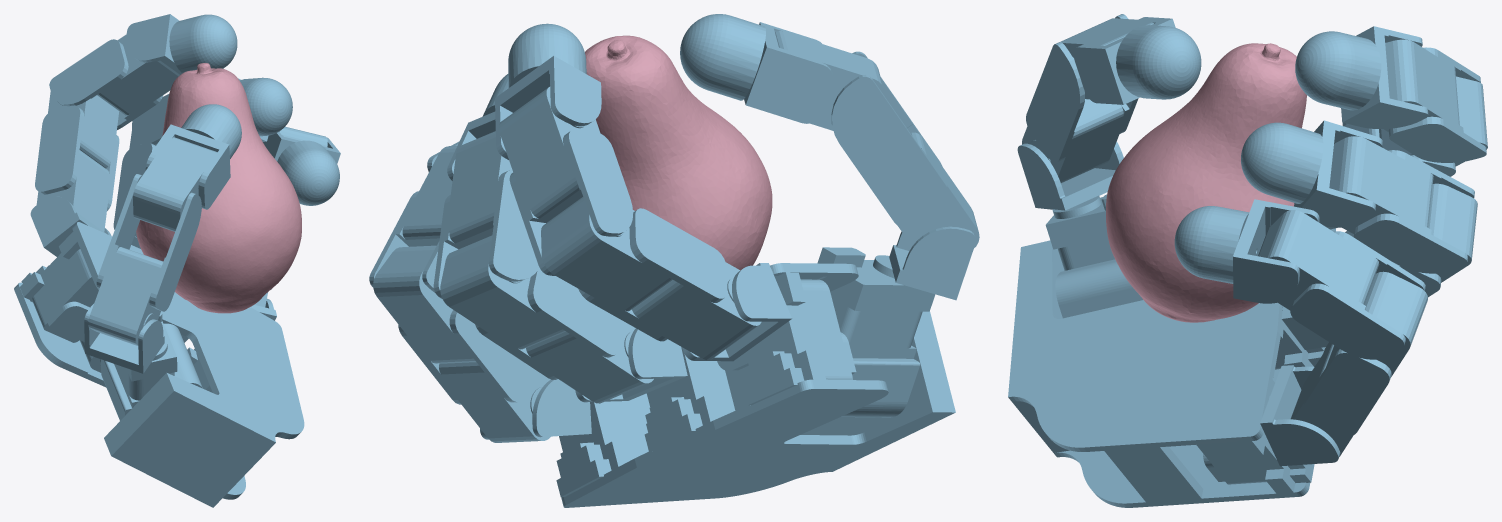
3 views of the same model, side by side, from view 1: azimuth 30°, elevation 25°; view 2: azimuth 150°, elevation 25°; view 3: azimuth 270°, elevation 25° (orthographic). The views are drawn at different scales.
Visible parts, largest first — view 1: world; view 2: world; view 3: world.
Boxes of the visible parts, x1,y1,x2,y2 form: world: (14, 14, 340, 507); world: (369, 14, 979, 507); world: (1008, 14, 1487, 507).
Size of the model in its own units: 0.1553 by 0.1815 by 0.1565.
